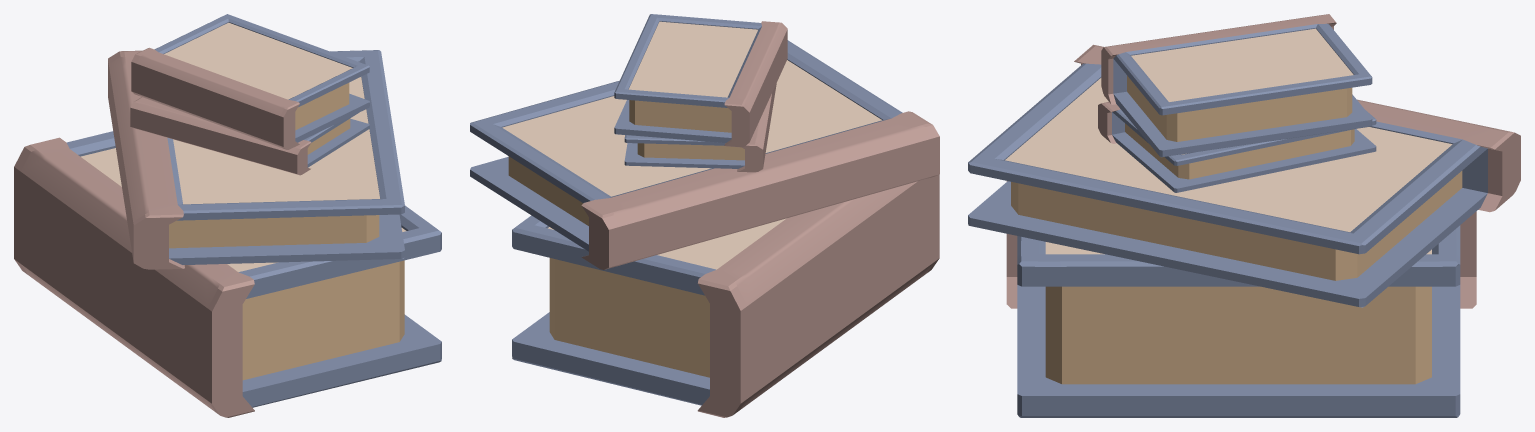
File: PRP_BookPile.fbx
3 views of the same model, side by side, from view 1: azimuth 30°, elevation 25°; view 2: azimuth 150°, elevation 25°; view 3: azimuth 270°, elevation 25° (orthographic). The views are drawn at different scales.
Visible parts, largest first — view 1: pCube22; view 2: pCube22; view 3: pCube22.
Boxes of the visible parts, box(x1,y1,x2,y2) form: pCube22: box(14, 14, 441, 417); pCube22: box(470, 14, 939, 417); pCube22: box(968, 14, 1520, 417).
Size of the model in its own units: 0.367 by 0.2519 by 0.4152.
